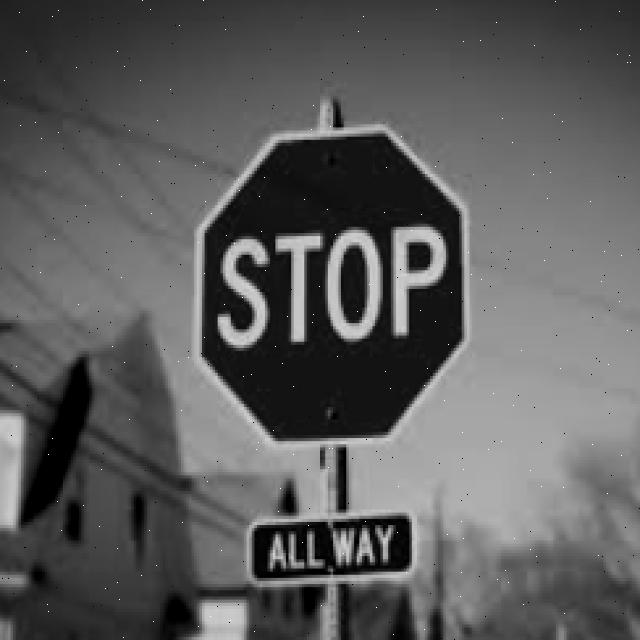Stop-signs: (197, 130, 470, 446)
